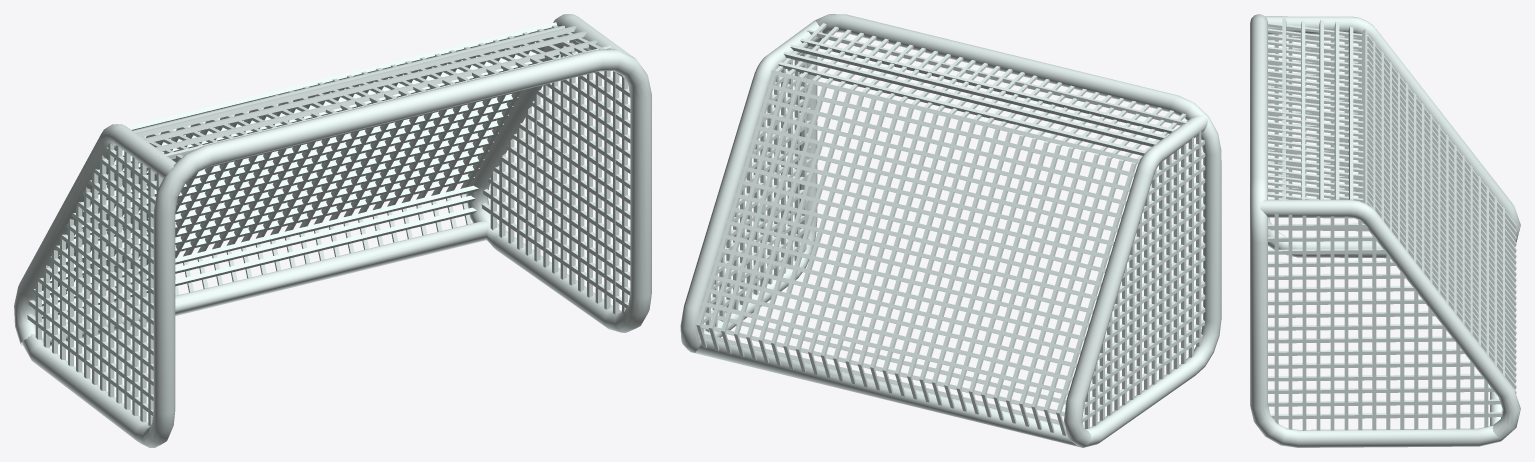
The model's file is Net.fbx.
3 renders of one model, left to right at view 1: azimuth 30°, elevation 25°; view 2: azimuth 150°, elevation 25°; view 3: azimuth 270°, elevation 25°, orthographic. The views are drawn at different scales.
Parts seen in each view (by area): view 1: Vert.003; view 2: Vert.003; view 3: Vert.003.
Part boxes in pixels (x1,y1,x2,y2): Vert.003: (14,14,651,447); Vert.003: (680,14,1221,447); Vert.003: (1250,14,1520,447).
Size of the model in its own units: 1366 by 804 by 778.
